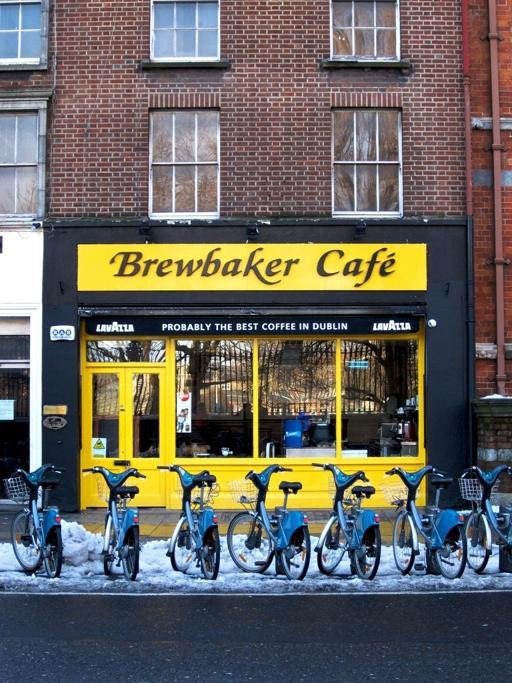non-vehicle: (226, 463, 310, 580), (386, 463, 467, 579), (312, 461, 381, 580), (157, 464, 220, 580), (3, 461, 64, 578), (83, 464, 145, 578), (458, 464, 511, 572)
